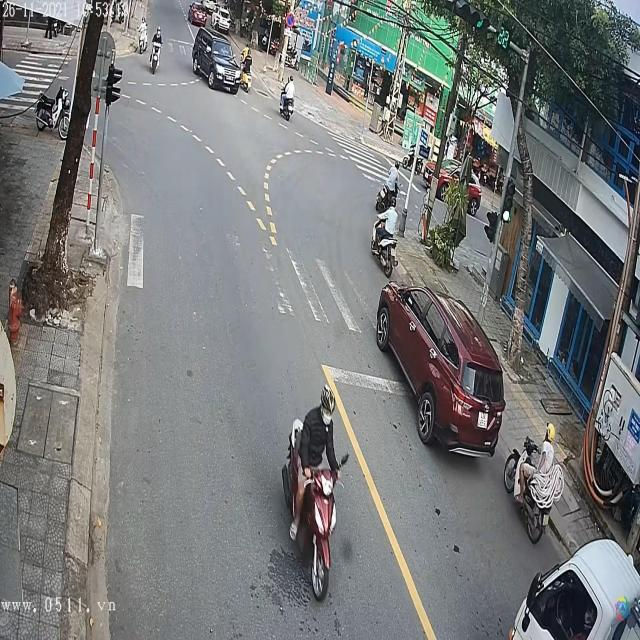car: (375, 285, 512, 457), (192, 22, 241, 98)
motorcycle: (281, 413, 349, 602), (503, 433, 556, 545), (373, 229, 400, 276), (279, 94, 293, 118)
